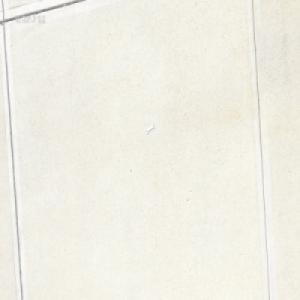Wrench: (145, 125, 154, 134)
